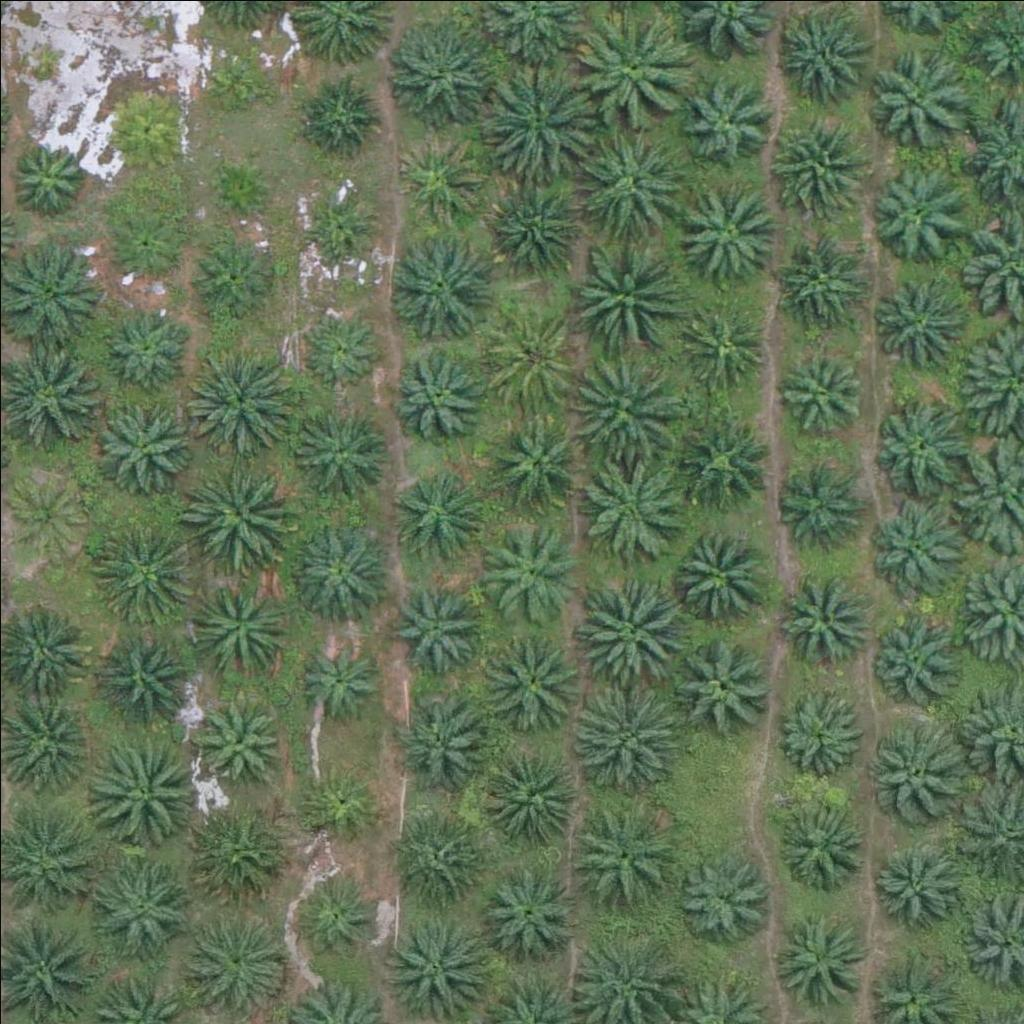Kelapa_Sawit: (565, 790, 678, 904), (578, 122, 691, 236), (569, 350, 682, 464), (572, 679, 685, 792), (94, 737, 207, 850), (185, 344, 298, 457), (184, 456, 297, 569), (575, 443, 688, 556), (569, 572, 682, 685), (568, 247, 680, 361), (379, 910, 491, 1023), (175, 910, 287, 1023), (577, 9, 689, 122), (487, 61, 599, 174), (384, 20, 496, 133), (87, 514, 199, 627), (385, 230, 497, 343), (770, 905, 870, 1006), (670, 634, 770, 735), (675, 841, 775, 942), (474, 746, 574, 847), (474, 863, 574, 964), (390, 799, 490, 900), (385, 690, 485, 791), (175, 803, 275, 904), (93, 856, 193, 957), (102, 627, 202, 728), (870, 162, 970, 263), (771, 118, 871, 219), (674, 67, 774, 168), (94, 394, 194, 495), (190, 575, 290, 676), (292, 515, 392, 616), (290, 402, 390, 503), (388, 343, 488, 444), (482, 525, 582, 626), (485, 415, 585, 516), (769, 230, 869, 331), (870, 397, 970, 498), (872, 271, 972, 372), (859, 724, 959, 824), (766, 792, 866, 892), (867, 603, 967, 703), (478, 633, 578, 733), (865, 44, 965, 144), (764, 8, 864, 108), (680, 177, 780, 277), (484, 173, 584, 273), (479, 307, 579, 407), (668, 525, 768, 625), (668, 411, 768, 511), (765, 460, 865, 560), (773, 569, 873, 669), (864, 496, 964, 596), (102, 86, 190, 175), (775, 694, 863, 782), (293, 764, 381, 852), (293, 877, 381, 965), (198, 696, 286, 784), (102, 200, 190, 288), (1, 469, 89, 557), (297, 302, 385, 390), (394, 470, 482, 558), (395, 579, 483, 667), (681, 304, 769, 392), (779, 342, 867, 430), (101, 303, 188, 392), (876, 838, 963, 926), (299, 632, 386, 720), (395, 137, 482, 225), (296, 73, 383, 161), (7, 132, 94, 220), (192, 230, 279, 318), (204, 150, 279, 226), (200, 42, 275, 118), (298, 180, 373, 255)
